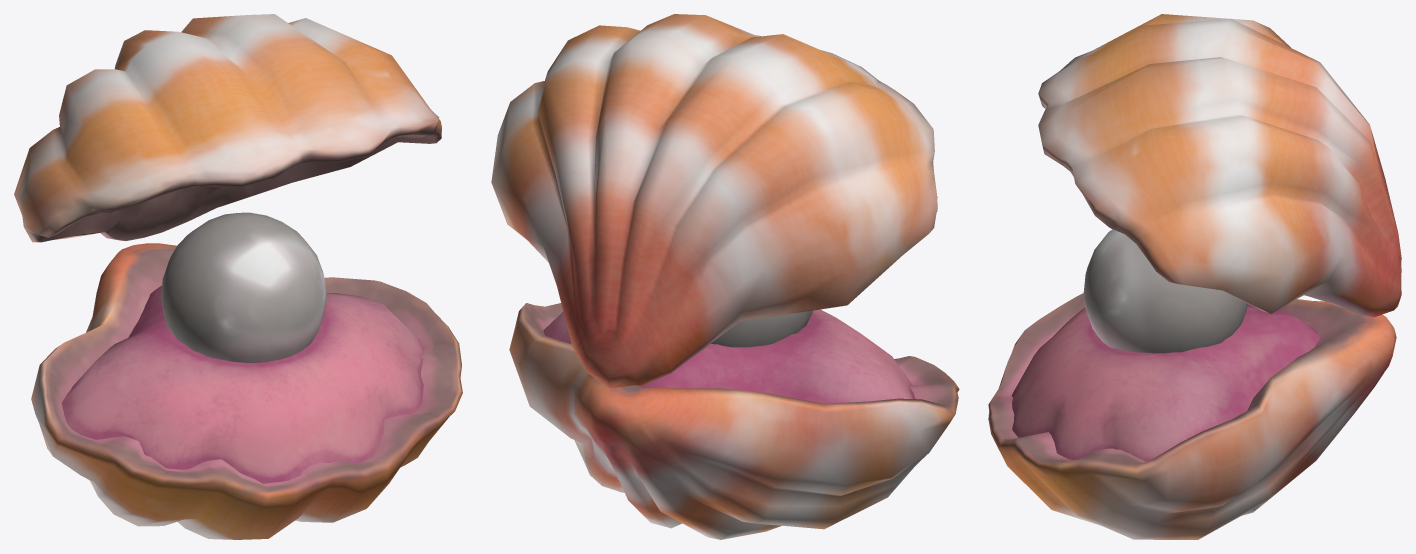
The model's file is oyster.glb.
The picture shows the model from 3 angles, left to right: view 1: azimuth 30°, elevation 25°; view 2: azimuth 150°, elevation 25°; view 3: azimuth 270°, elevation 25°; orthographic projection. The views are drawn at different scales.
Visible parts, largest first — view 1: Superior_low, FleshyThing_low, Inferior_low, Pearl_low; view 2: Superior_low, Inferior_low, FleshyThing_low, Pearl_low; view 3: Superior_low, Inferior_low, FleshyThing_low, Pearl_low.
Part boxes in pixels (box(x1,y1,x2,y2)): Superior_low: box(14, 14, 441, 242); FleshyThing_low: box(62, 285, 423, 483); Inferior_low: box(31, 243, 462, 539); Pearl_low: box(161, 212, 326, 362); Superior_low: box(491, 14, 937, 388); Inferior_low: box(509, 303, 959, 539); FleshyThing_low: box(543, 309, 915, 403); Pearl_low: box(711, 310, 812, 347); Superior_low: box(1038, 14, 1401, 317); Inferior_low: box(988, 293, 1396, 539); FleshyThing_low: box(1011, 305, 1320, 461); Pearl_low: box(1083, 229, 1247, 353).
Bounding box in the file's own units: 2.68 × 3 × 2.4.
1 material, 1 textured.
